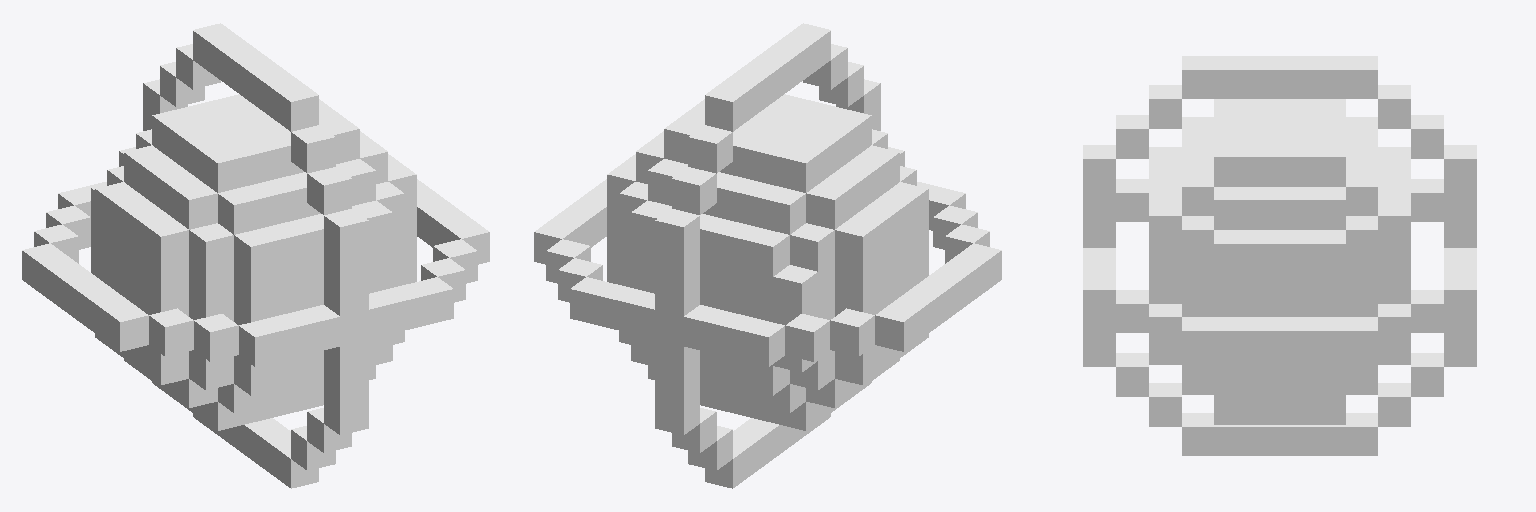
File: blue_orb.vox.obj
3 views of the same model, side by side, from view 1: azimuth 30°, elevation 25°; view 2: azimuth 150°, elevation 25°; view 3: azimuth 270°, elevation 25° (orthographic).
Visible parts, largest first — view 1: object 1; view 2: object 1; view 3: object 1.
Part boxes in pixels (bbox=[...]): object 1: bbox=[22, 23, 489, 488]; object 1: bbox=[534, 23, 1001, 488]; object 1: bbox=[1083, 56, 1476, 455].
Bounding box in the file's own units: 1.3 × 1.3 × 1.2.